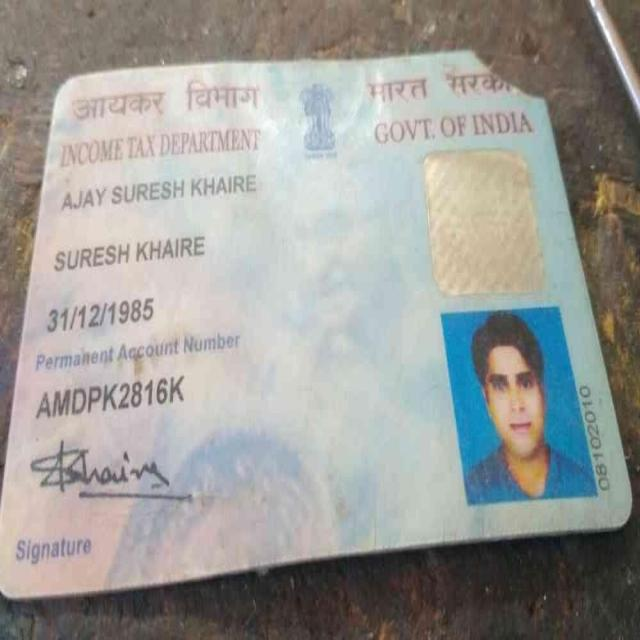pan_card: (0, 49, 637, 599)
